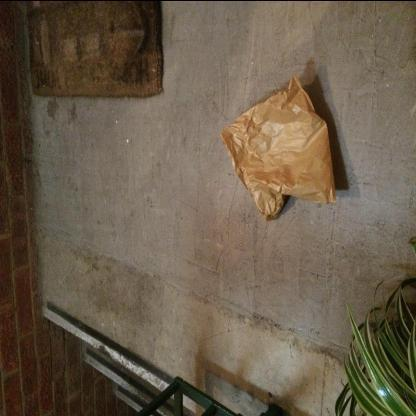kagit: (221, 74, 339, 223)
